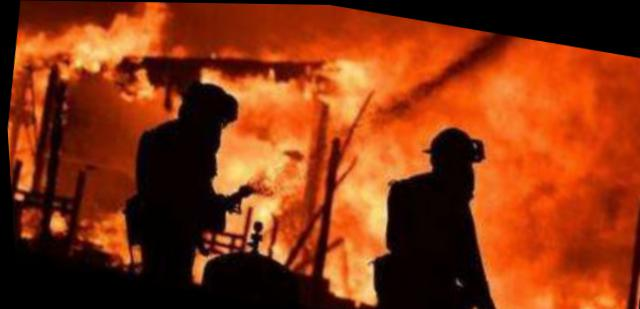fire: (162, 38, 412, 301), (0, 0, 167, 259), (460, 243, 626, 307)
